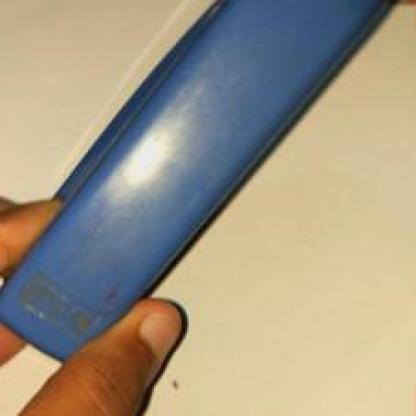stapler: (6, 3, 385, 399)
